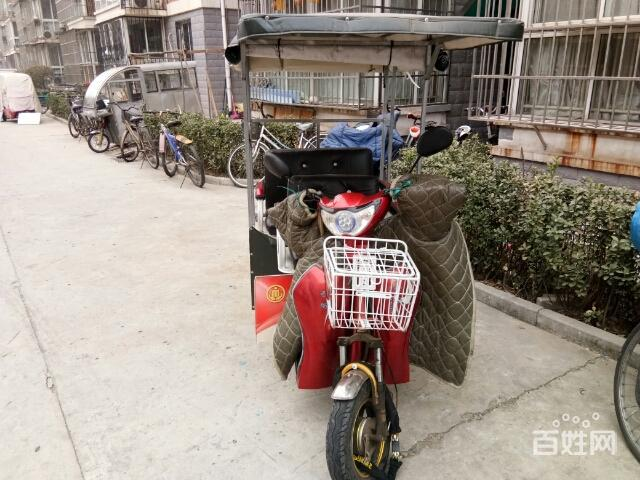电动车: (245, 124, 483, 480)
